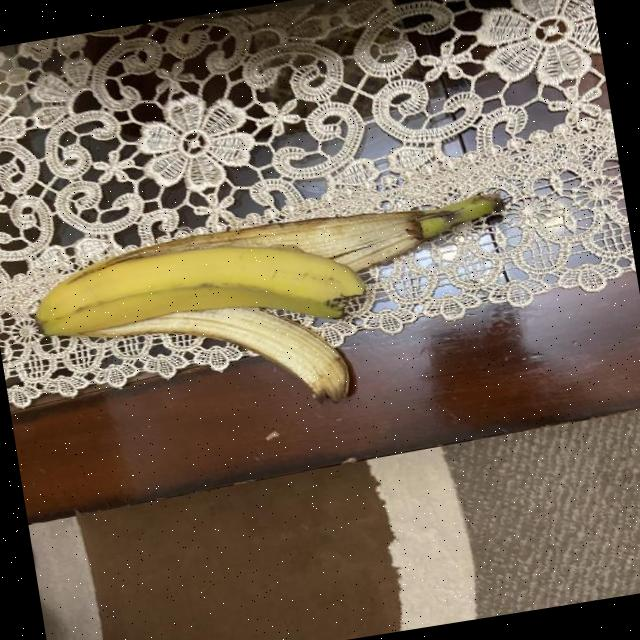banana-peel: (22, 183, 530, 447), (26, 218, 370, 366), (81, 286, 355, 440)
